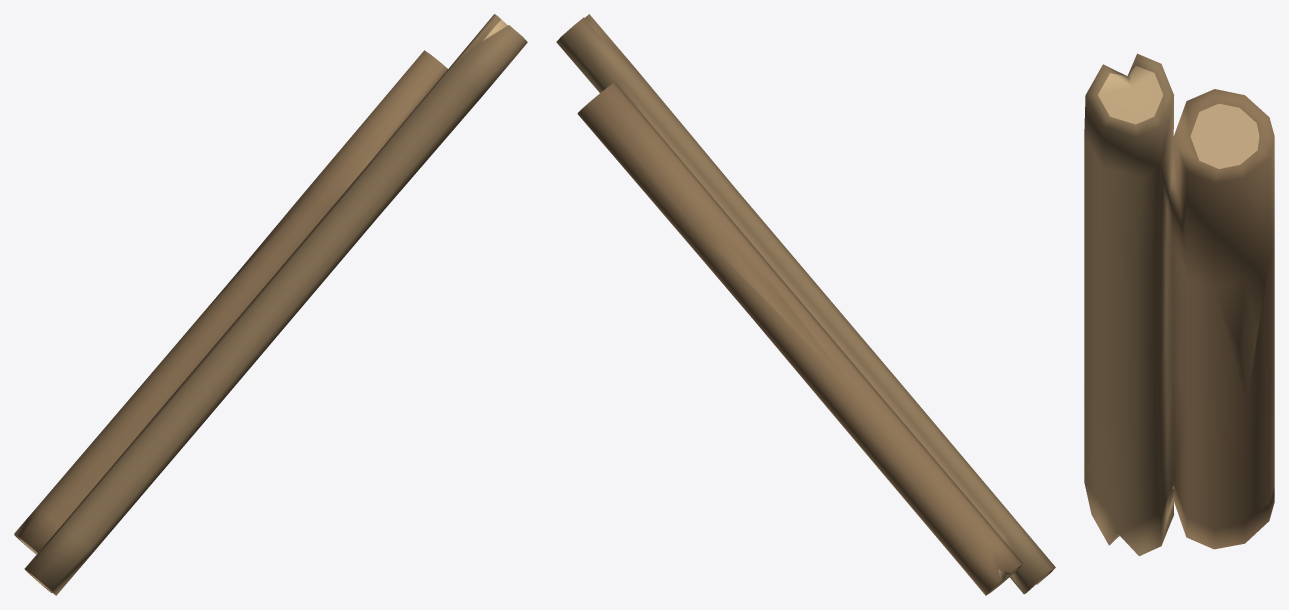
File: rpgpp_ag_roof_01_6x3x3_end_01a_half.fbx
3 views of the same model, side by side, from view 1: azimuth 30°, elevation 25°; view 2: azimuth 150°, elevation 25°; view 3: azimuth 270°, elevation 25° (orthographic). The views are drawn at different scales.
Parts seen in each view (by area): view 1: rpgpp_ag_roof_01_6x3x3_end_01a_half; view 2: rpgpp_ag_roof_01_6x3x3_end_01a_half; view 3: rpgpp_ag_roof_01_6x3x3_end_01a_half.
Boxes of the visible parts, x1=… form: rpgpp_ag_roof_01_6x3x3_end_01a_half: x1=14, y1=14, x2=527, y2=595; rpgpp_ag_roof_01_6x3x3_end_01a_half: x1=556, y1=14, x2=1055, y2=595; rpgpp_ag_roof_01_6x3x3_end_01a_half: x1=1084, y1=53, x2=1274, y2=556.
Size of the model in its own units: 4.79 by 4.33 by 0.8.
